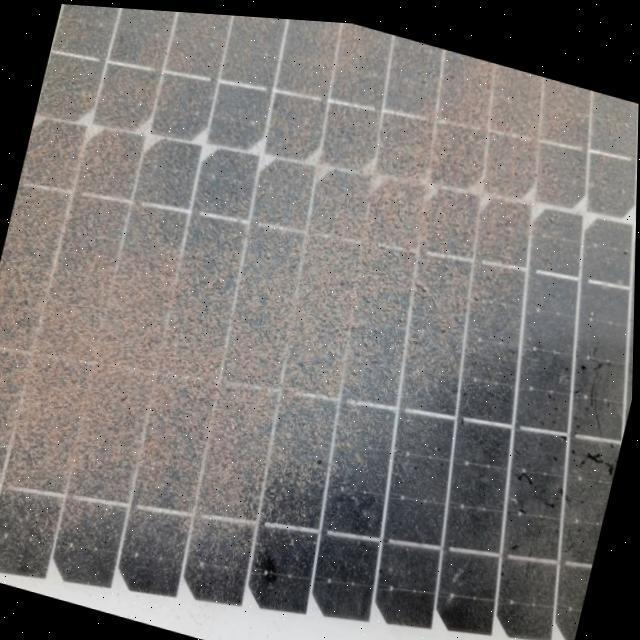Surface Contaminant: (0, 4, 639, 640)
